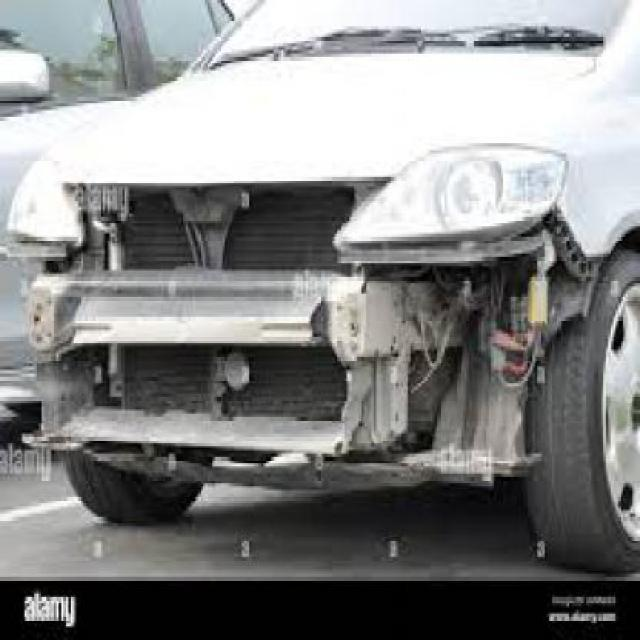damaged-front-bumper: (16, 244, 602, 483)
